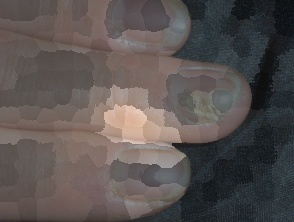Nail_psoriasis: (168, 82, 249, 133), (134, 17, 190, 65)
